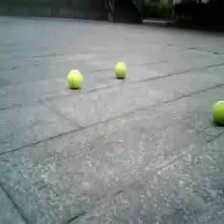tennis: (67, 70, 84, 89), (213, 101, 224, 124), (115, 63, 127, 78)
